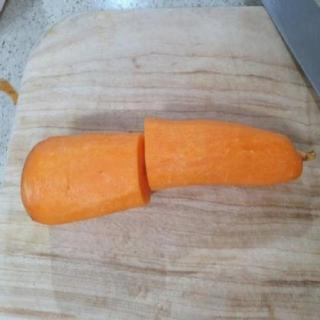carrot: (143, 114, 309, 196), (18, 130, 152, 230)
